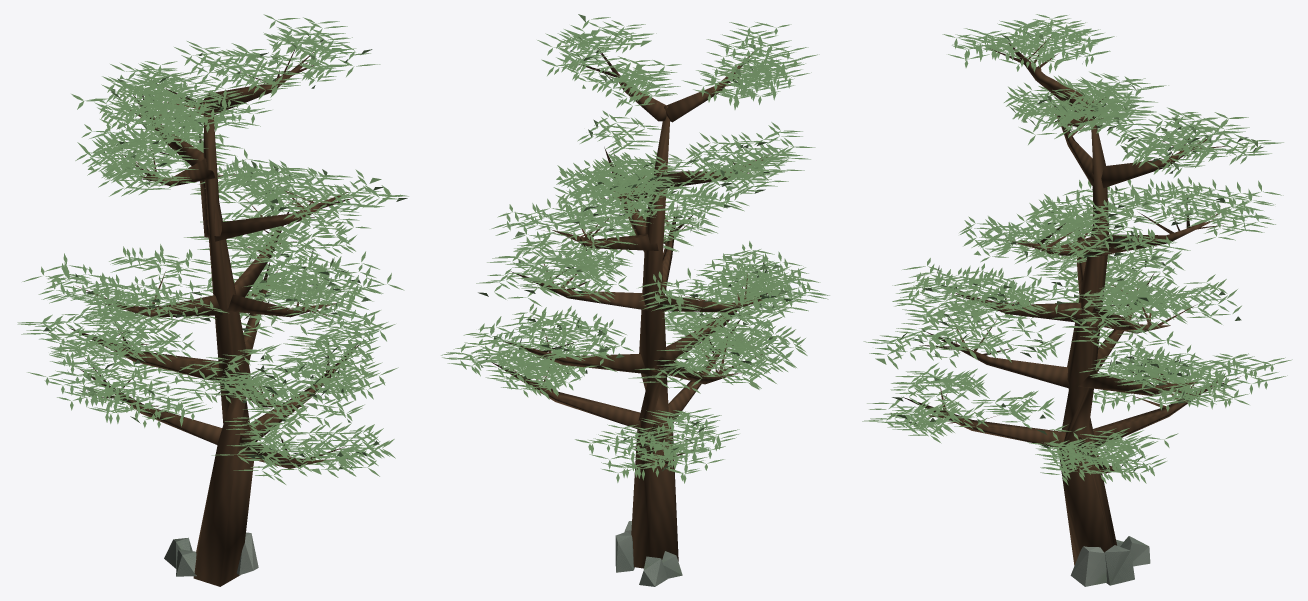
File: v01_pine_0_lod1.fbx
The picture shows the model from 3 angles, left to right: view 1: azimuth 30°, elevation 25°; view 2: azimuth 150°, elevation 25°; view 3: azimuth 270°, elevation 25°; orthographic projection. The views are drawn at different scales.
Visible parts, largest first — view 1: v01_pine_0.004; view 2: v01_pine_0.004; view 3: v01_pine_0.004.
Boxes of the visible parts, bbox=[...] form: v01_pine_0.004: bbox=[17, 14, 408, 586]; v01_pine_0.004: bbox=[441, 14, 829, 586]; v01_pine_0.004: bbox=[862, 14, 1292, 586].
Bounding box in the file's own units: 48259 × 46573 × 63133.
